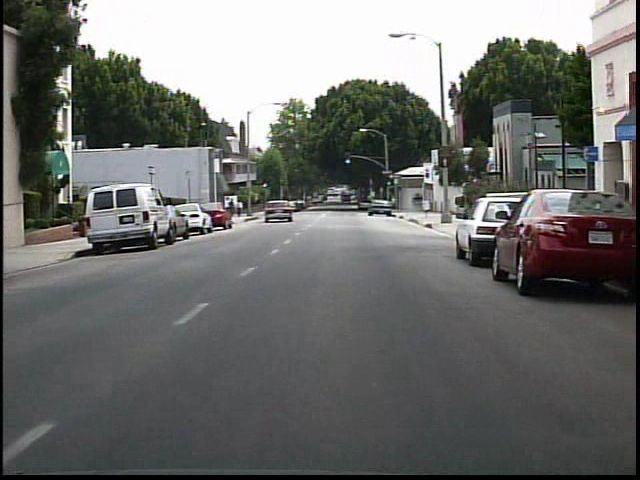person: (225, 197, 238, 220), (237, 198, 248, 221)
